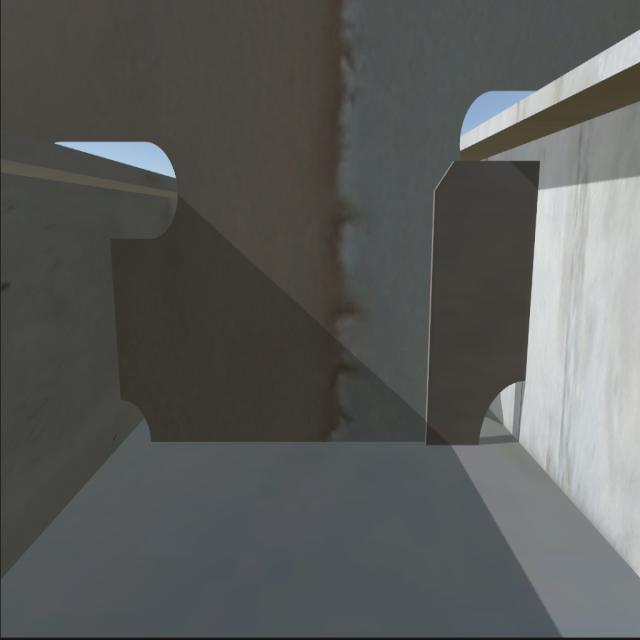fillet_hole: (477, 390, 525, 448), (120, 401, 154, 442)
fillet_yong_jeop_jang: (158, 434, 480, 448)
longi_yong_jeop_jang: (520, 168, 538, 380), (108, 241, 125, 394)
plate_CP03: (430, 167, 530, 437)
